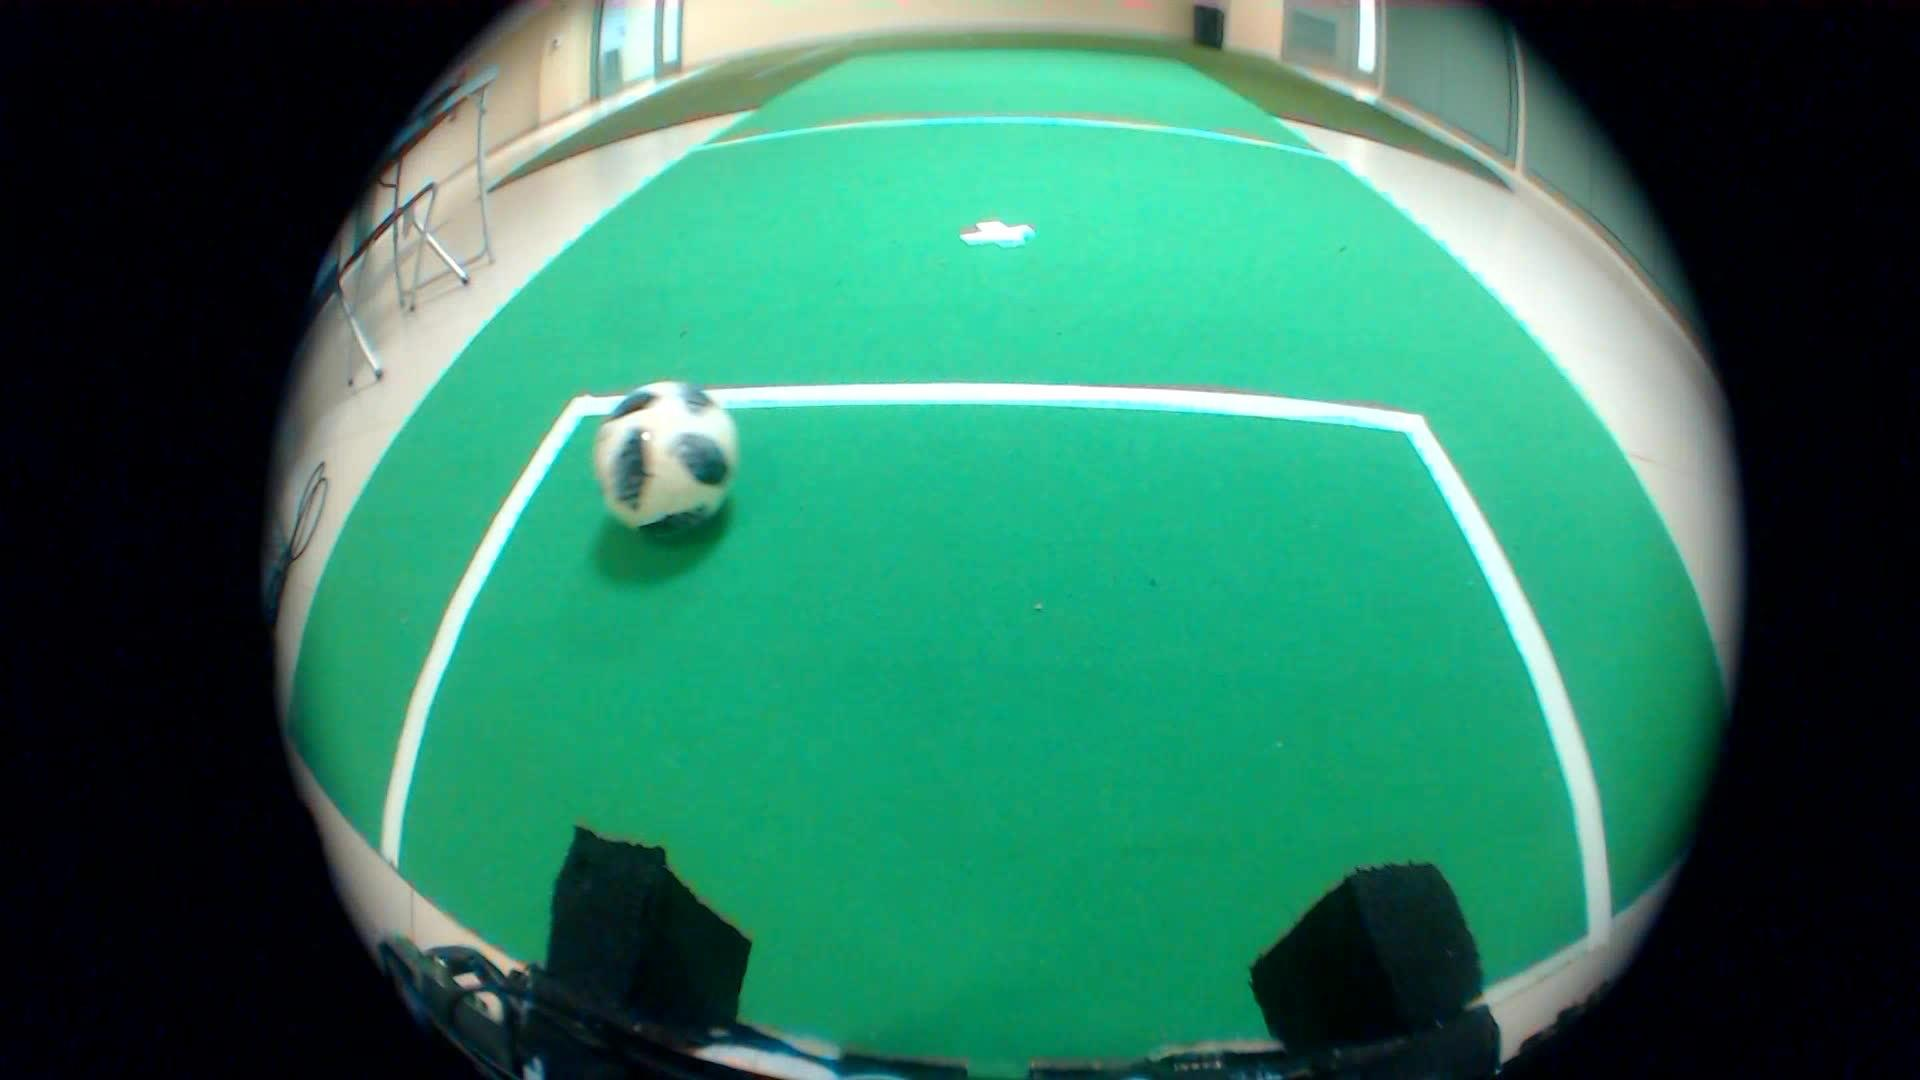ball: (576, 376, 765, 556)
